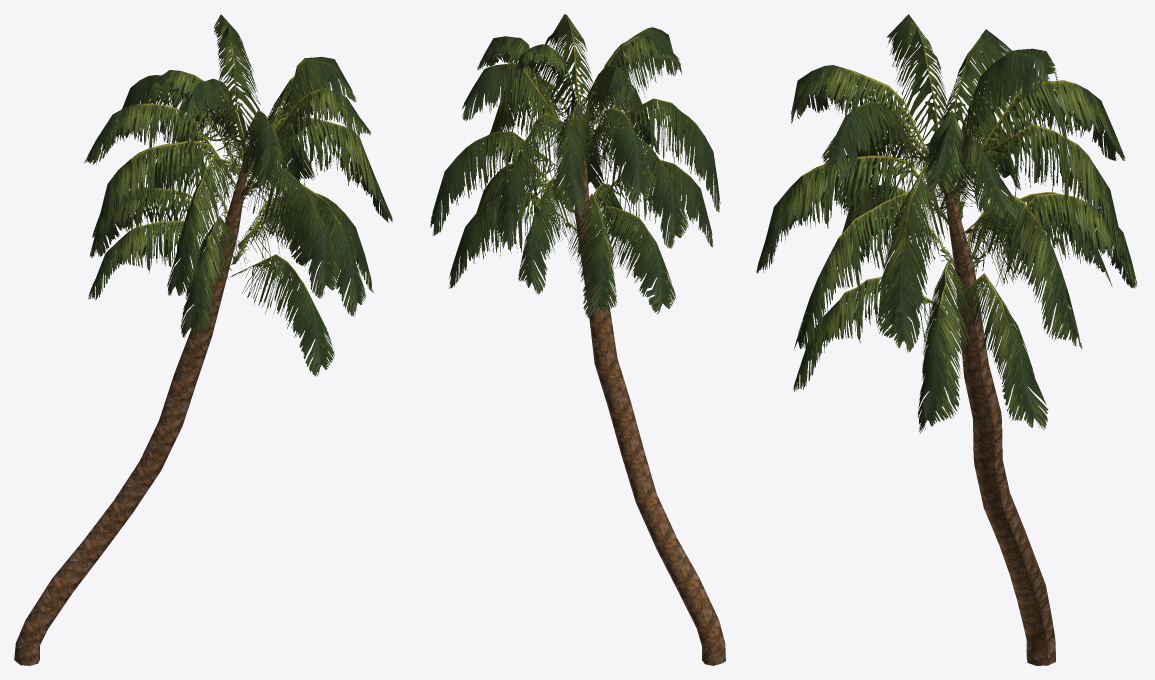
Rendered from Palm 1.fbx.
The picture shows the model from 3 angles, left to right: view 1: azimuth 30°, elevation 25°; view 2: azimuth 150°, elevation 25°; view 3: azimuth 270°, elevation 25°; orthographic projection. The views are drawn at different scales.
Visible parts, largest first — view 1: Palm 1; view 2: Palm 1; view 3: Palm 1.
Part boxes in pixels (left/top/right/bottom): Palm 1: left=14, top=14, right=392, bottom=665; Palm 1: left=430, top=14, right=725, bottom=665; Palm 1: left=756, top=14, right=1137, bottom=665.
Bounding box in the file's own units: 197 × 350 × 169.
2 materials, 2 textured.
